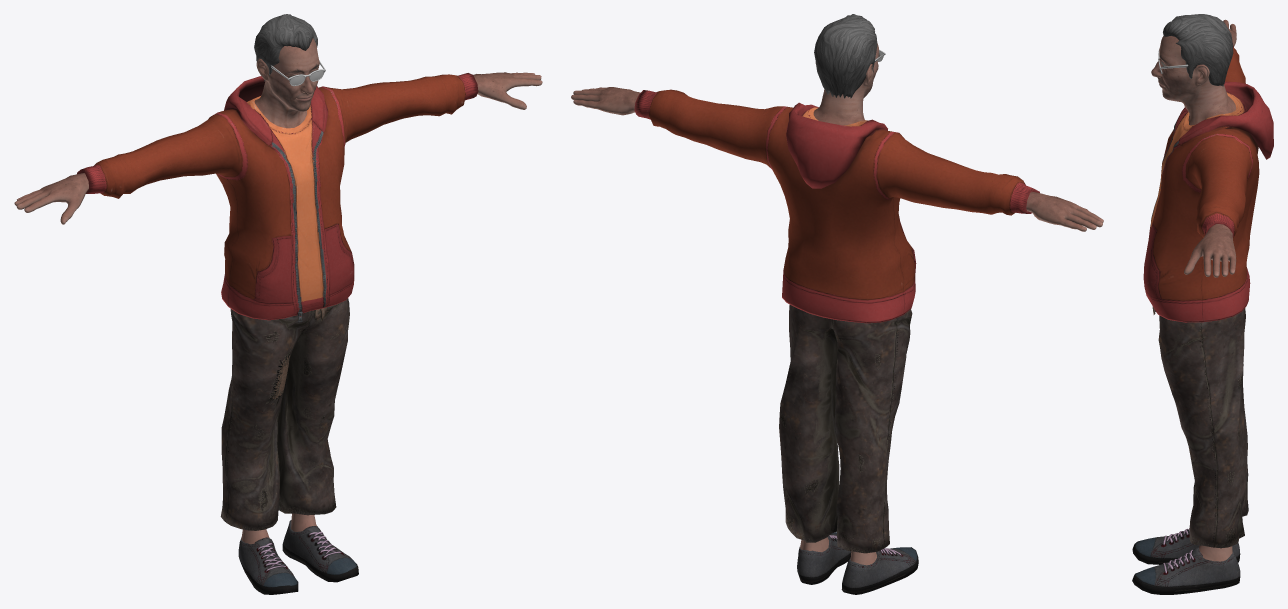
Rendered from Man B.obj.
3 renders of one model, left to right at view 1: azimuth 30°, elevation 25°; view 2: azimuth 150°, elevation 25°; view 3: azimuth 270°, elevation 25°, orthographic.
Parts seen in each view (by area): view 1: Tops, Bottoms, Body, Shoes, Hair; view 2: Tops, Bottoms, Body, Hair, Shoes; view 3: Tops, Bottoms, Body, Shoes, Hair.
Part boxes in pixels (x1,y1,x2,y2): Tops: [77, 73, 478, 322]; Bottoms: [220, 298, 349, 530]; Body: [14, 38, 542, 544]; Shoes: [238, 520, 358, 594]; Hair: [254, 14, 317, 81]; Tops: [634, 89, 1039, 323]; Bottoms: [779, 305, 912, 553]; Body: [571, 43, 1103, 565]; Hair: [814, 14, 877, 98]; Shoes: [797, 532, 918, 594]; Tops: [1143, 43, 1273, 322]; Bottoms: [1152, 306, 1248, 548]; Body: [1151, 19, 1236, 561]; Shoes: [1132, 528, 1240, 594]; Hair: [1163, 14, 1233, 86].
Size of the model in its own units: 181 by 181 by 41.94.
